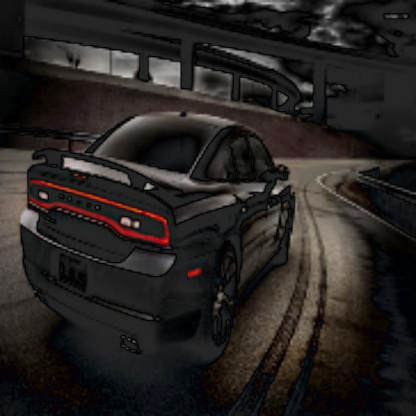Vehicle: (18, 107, 296, 359)
